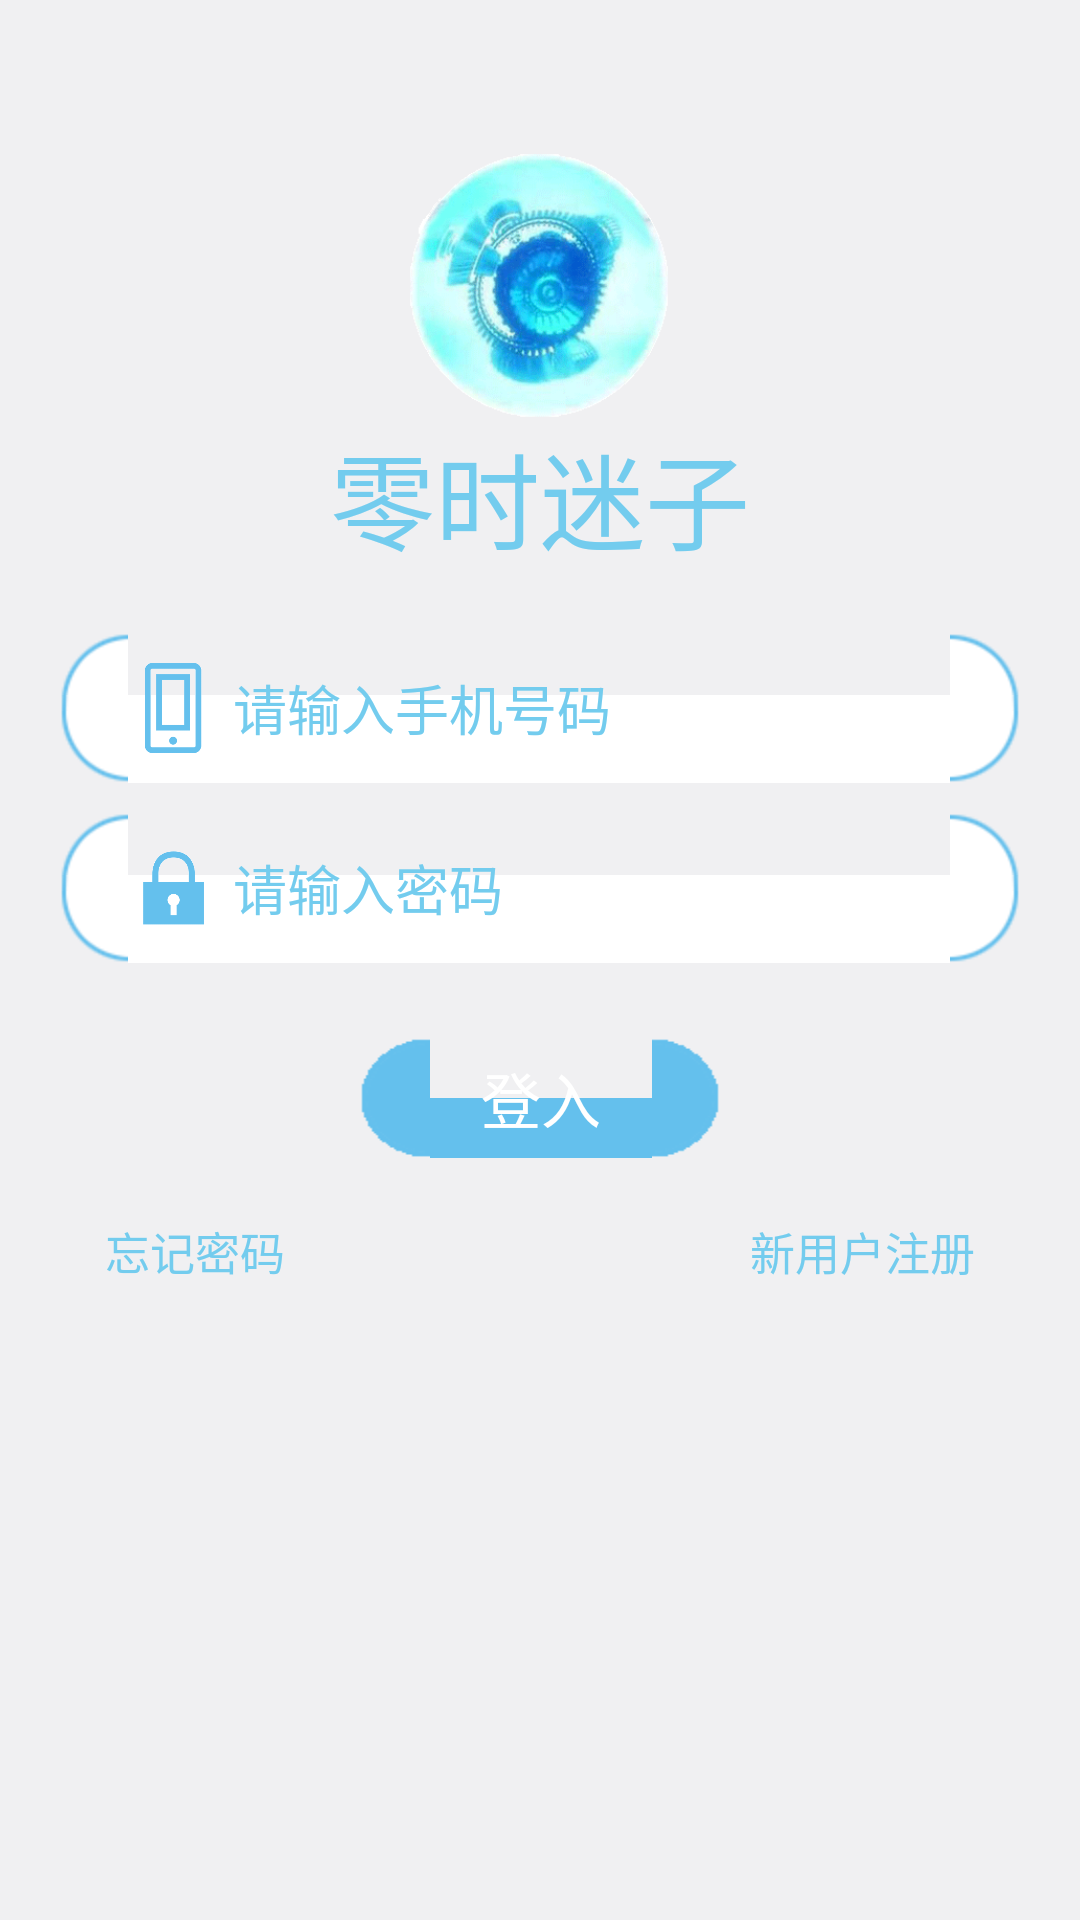

Locate icon controls on the screen. Image size 1080w x 1920h, boxes as (x1, y1, x2, y2).
phone: (145, 663, 202, 753)
